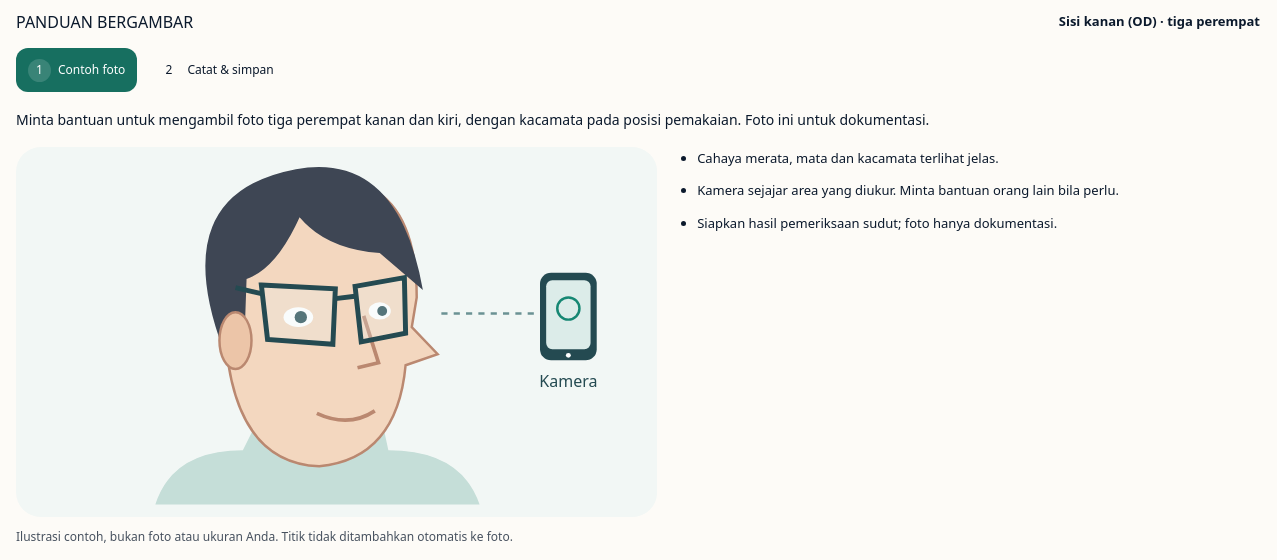
panto requires a real vertical and head angle; wrap never offers fabricated camera points
This screenshot has width=1277, height=560.
What coordinates should you click on to do the following:
click the button "2 Catat & simpan"
I would click on:
 (216, 70)
Its box is [145,48,286,92].
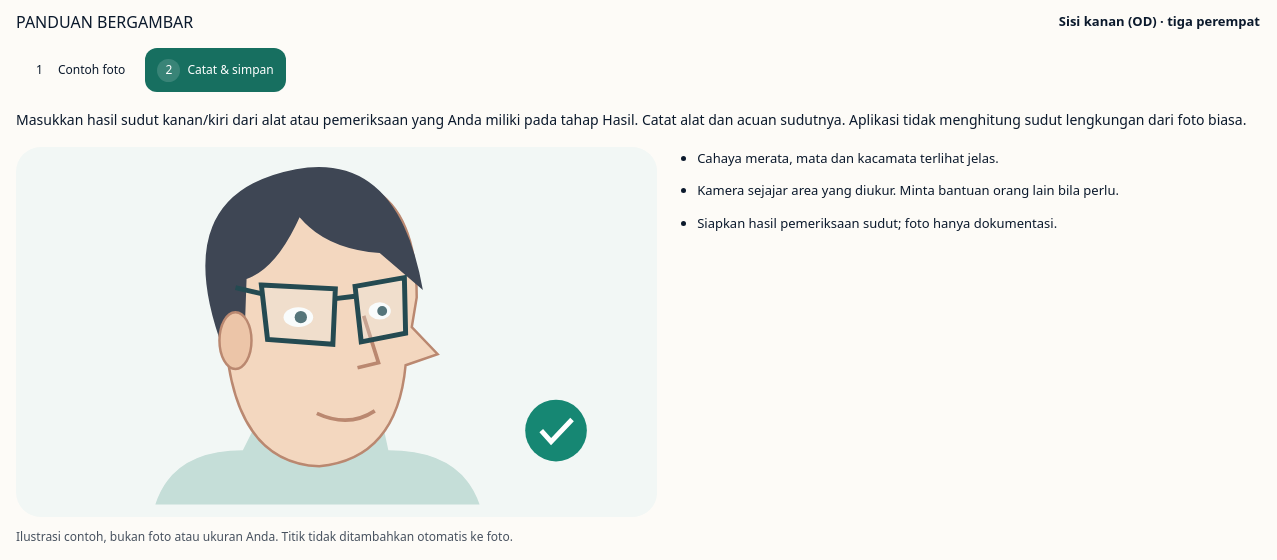
Check: the text "tidak menghitung sudut lengkungan dari foto biasa" is shown, box [16,110,1246,129]
